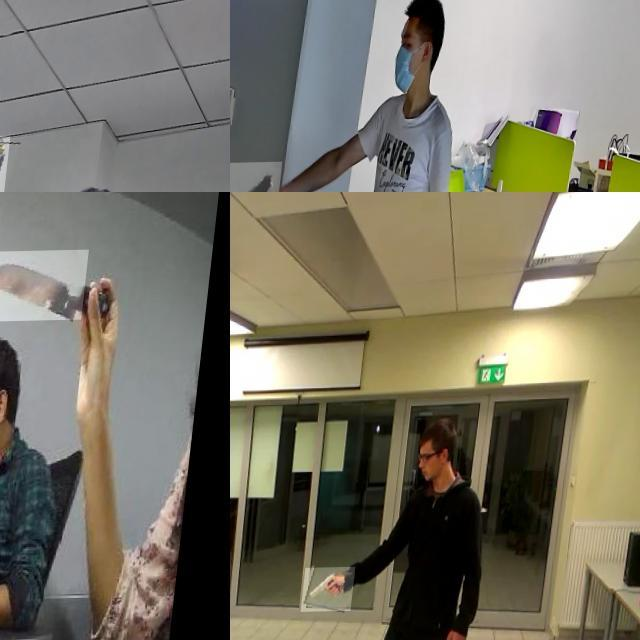-: (0, 252, 93, 324)
gun-knife-thesis - v11 Yolov5 augmented: (311, 568, 364, 614), (230, 162, 289, 192)
